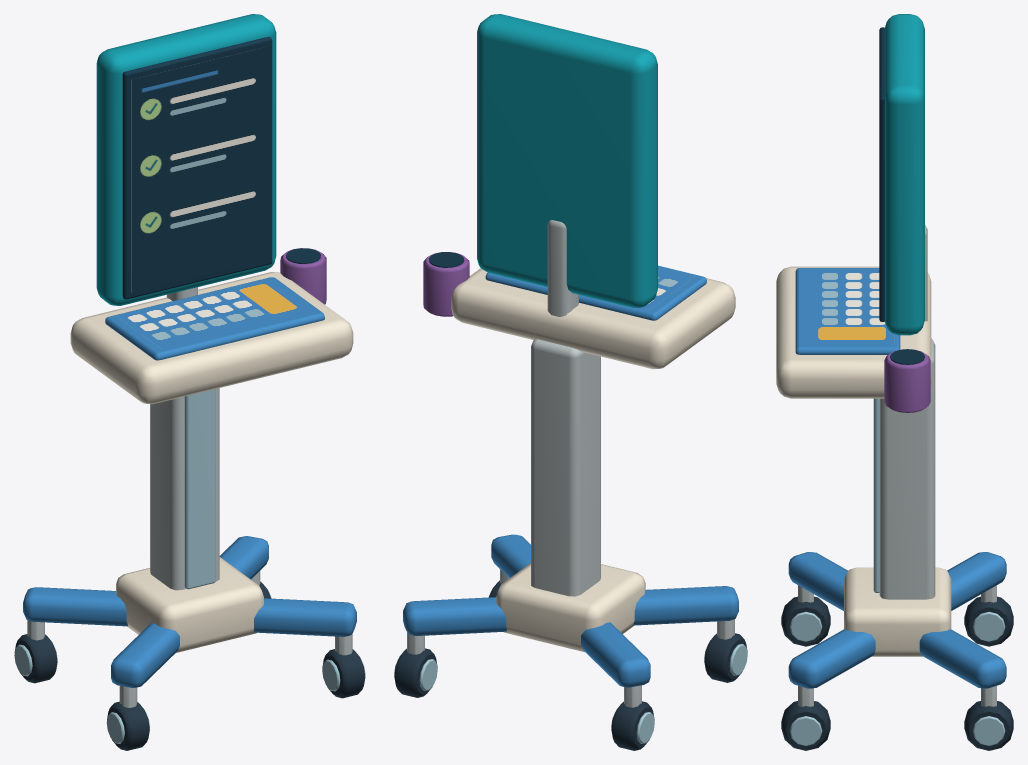
The model's file is medical-17.glb.
The picture shows the model from 3 angles, left to right: view 1: azimuth 30°, elevation 25°; view 2: azimuth 150°, elevation 25°; view 3: azimuth 270°, elevation 25°; orthographic projection.
Visible parts, largest first — view 1: 17_PACU_Body; view 2: 17_PACU_Body; view 3: 17_PACU_Body.
Part boxes in pixels (x1,y1,x2,y2): 17_PACU_Body: [14, 14, 365, 750]; 17_PACU_Body: [394, 14, 747, 750]; 17_PACU_Body: [776, 14, 1013, 750].
Size of the model in its own units: 0.75 by 1.79 by 0.597.
1 material, 1 textured.
